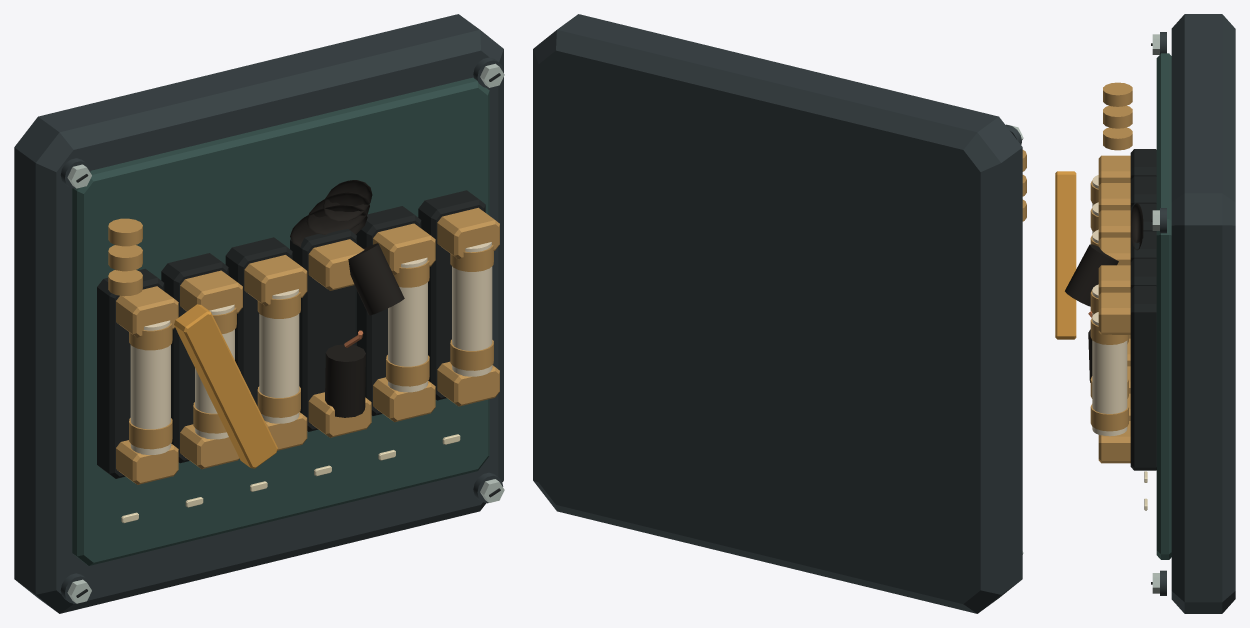
The model's file is fuse-broken.glb.
The picture shows the model from 3 angles, left to right: view 1: azimuth 30°, elevation 25°; view 2: azimuth 150°, elevation 25°; view 3: azimuth 270°, elevation 25°; orthographic projection. The views are drawn at different scales.
Visible parts, largest first — view 1: RB_fuse_broken; view 2: RB_fuse_broken; view 3: RB_fuse_broken.
Part boxes in pixels (left/top/right/bottom): RB_fuse_broken: left=14, top=14, right=504, bottom=613; RB_fuse_broken: left=533, top=14, right=1026, bottom=613; RB_fuse_broken: left=1055, top=14, right=1235, bottom=613.
Bounding box in the file's own units: 0.59 × 0.58 × 0.225.
